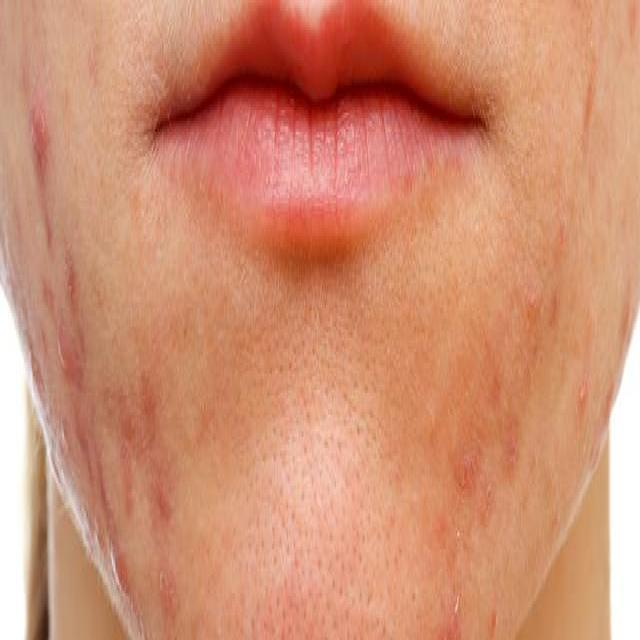blackheads: (49, 277, 86, 393), (26, 96, 54, 192), (106, 524, 138, 602), (156, 464, 176, 514)
